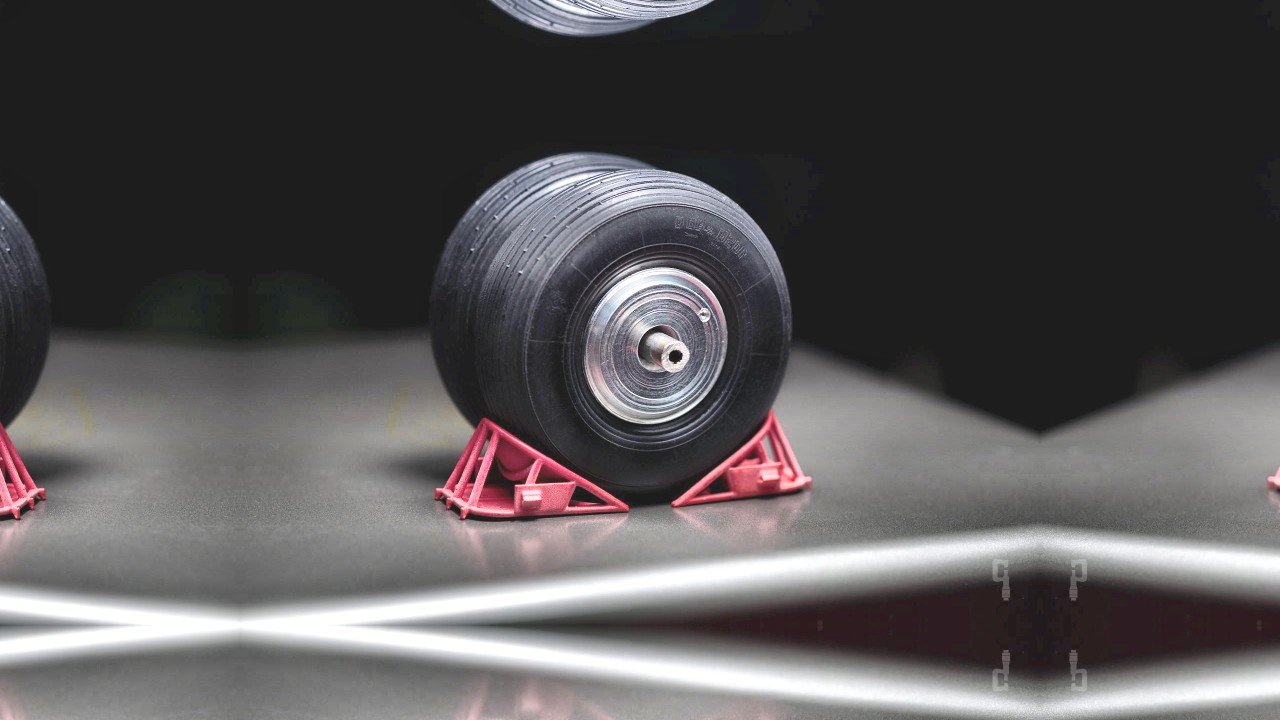chock: (436, 418, 630, 520), (667, 409, 813, 509), (0, 418, 44, 520)
wheel: (471, 168, 793, 510), (431, 153, 691, 479), (0, 153, 49, 479), (431, 0, 691, 35)
